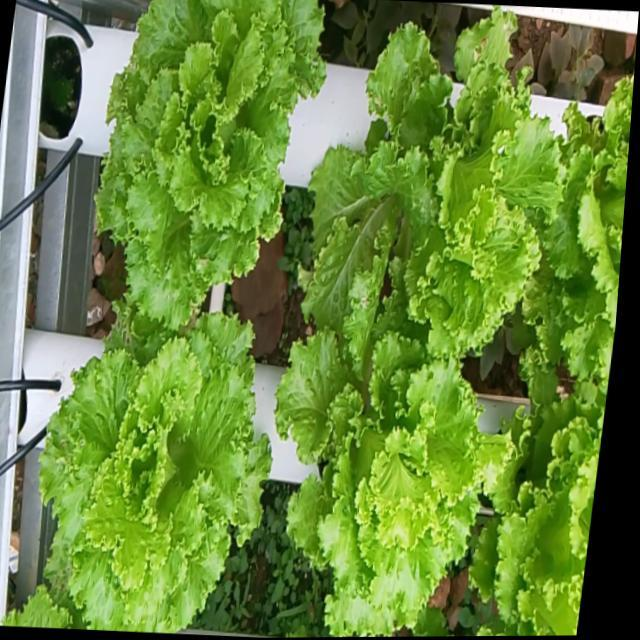Mature: (285, 5, 564, 366), (72, 0, 312, 355), (5, 310, 258, 630), (262, 319, 517, 633)
